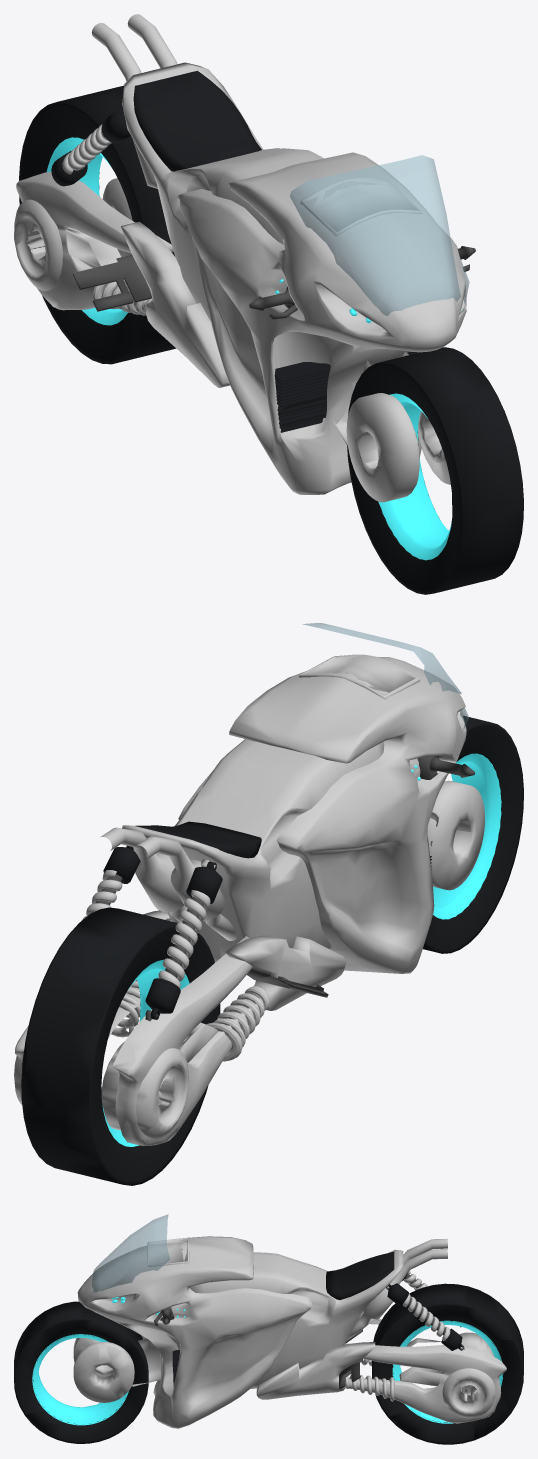
File: scifi.glb
The picture shows the model from 3 angles, top to bottom: view 1: azimuth 30°, elevation 25°; view 2: azimuth 150°, elevation 25°; view 3: azimuth 270°, elevation 25°; orthographic projection. The views are drawn at different scales.
Parts seen in each view (by area): view 1: body, tyre, glass, accent, dark; view 2: body, tyre, accent, dark, glass; view 3: body, tyre, accent, glass, dark.
Part boxes in pixels (x1,y1,x2,y2): body: (14,14,466,502); tyre: (19,70,523,594); glass: (290,155,469,315); accent: (47,137,451,560); dark: (72,246,475,319); body: (14,654,484,1145); tyre: (21,715,523,1185); accent: (101,753,501,1146); dark: (90,756,474,1021); glass: (302,623,468,729); body: (73,1236,506,1428); tyre: (14,1251,523,1444); accent: (32,1297,503,1425); glass: (92,1214,169,1292); dark: (154,1274,461,1389).
Bounding box in the file's own units: 0.7306 × 1.05 × 2.36.
